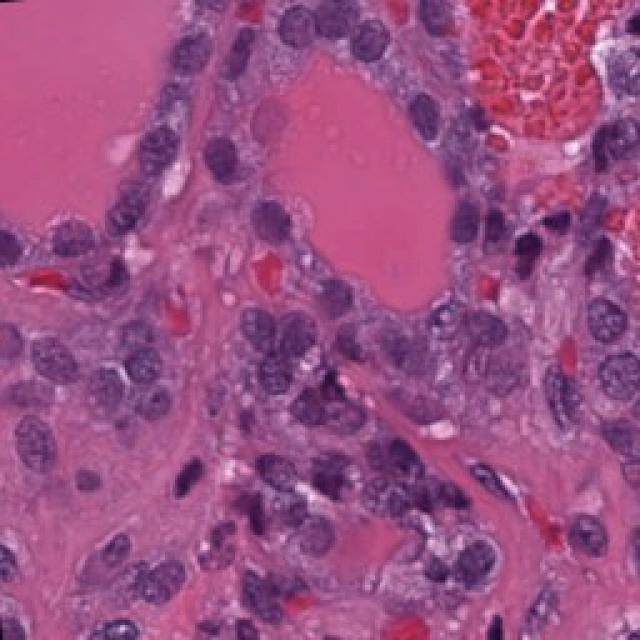abnormal: (423, 524, 513, 604), (247, 338, 330, 424), (64, 343, 145, 419), (394, 75, 454, 170), (128, 116, 200, 191), (218, 293, 288, 366), (585, 333, 640, 423), (575, 289, 640, 361), (346, 2, 391, 93)
